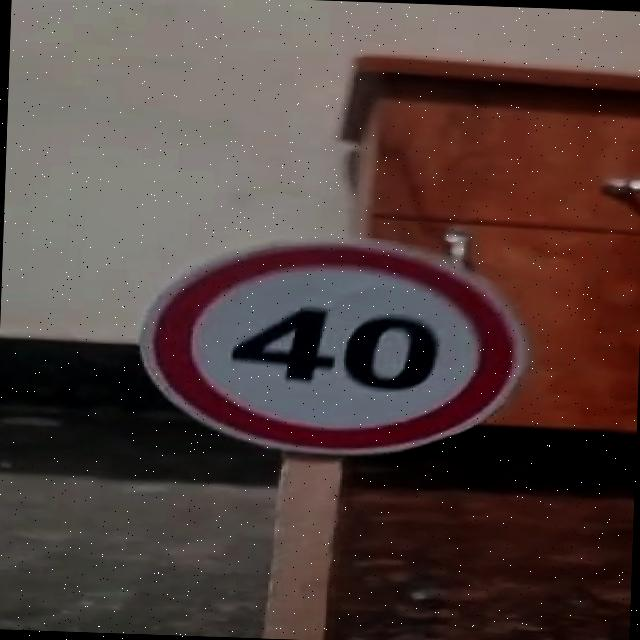Speed40: (125, 224, 540, 470)
